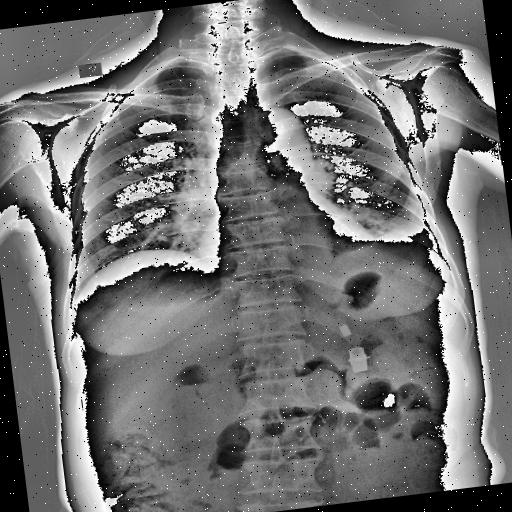0- Aortic enlargement: (250, 104, 311, 168)
10- Pleural effusion: (371, 204, 445, 262), (379, 219, 437, 257)
11- Pleural thickening: (400, 222, 434, 247)
12- Pneumothorax: (400, 222, 434, 247)
